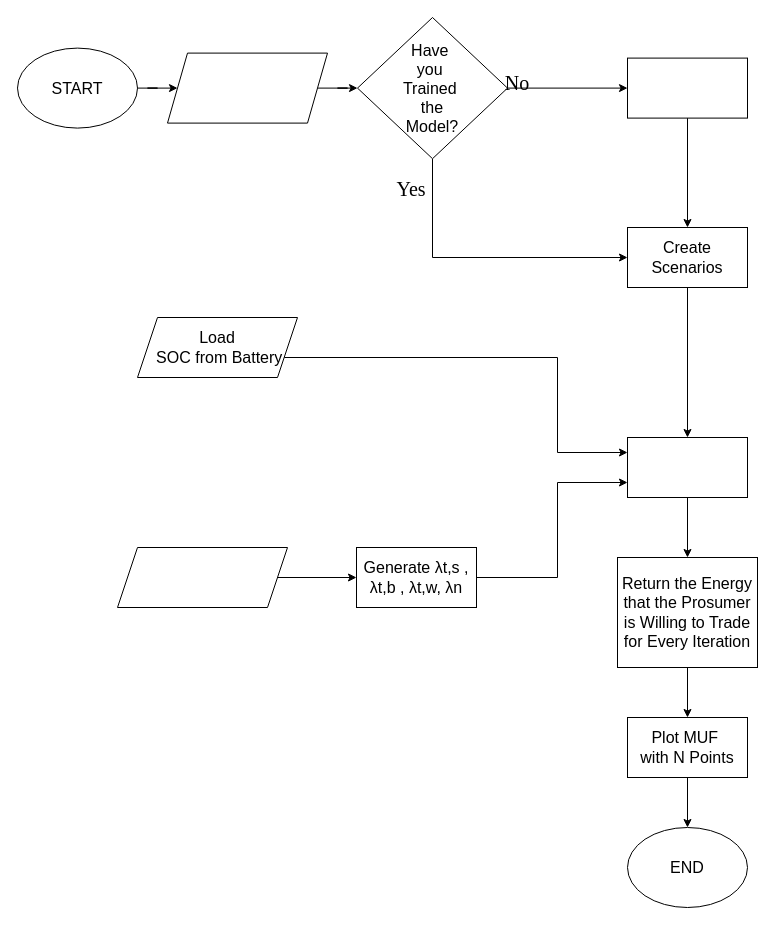
The diagram is 775 pixels wide and 925 high, and some of its shapes have lost their labels. The shapes that lost their labels are listed below. From the top down, each one's centre as x and y in pixels, then its label:
the point at 247,87: Load Historical Consumption Data
the point at 687,87: Train Model
the point at 687,467: Solve SOP N times
the point at 202,577: Load Day-Ahead-Prices
